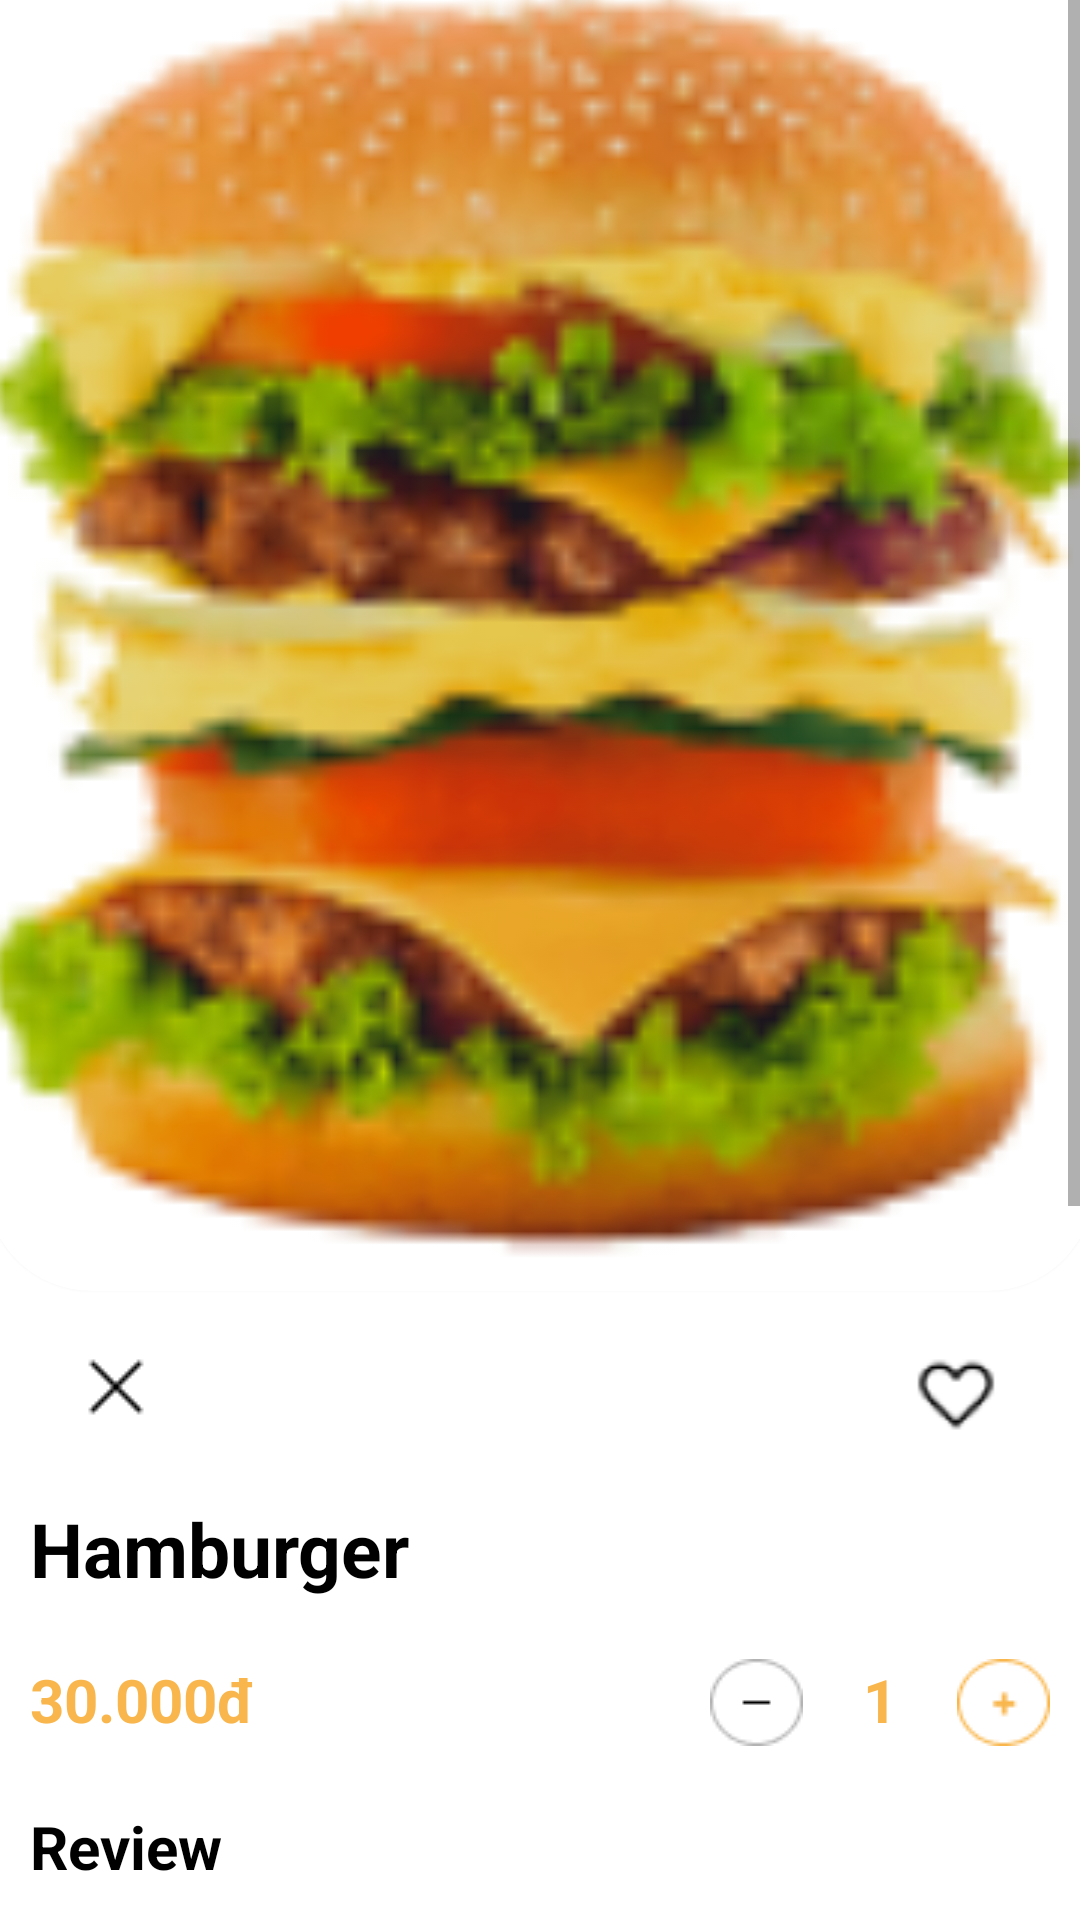

Locate icon controls on the screen. Image size 1080 × 1920, boxes as bbox=[x1, y1, x2, y2].
add: bbox=[957, 1659, 1050, 1746]
delete: bbox=[88, 1359, 144, 1415]
heart: bbox=[917, 1360, 995, 1429]
minus: bbox=[710, 1659, 803, 1746]
